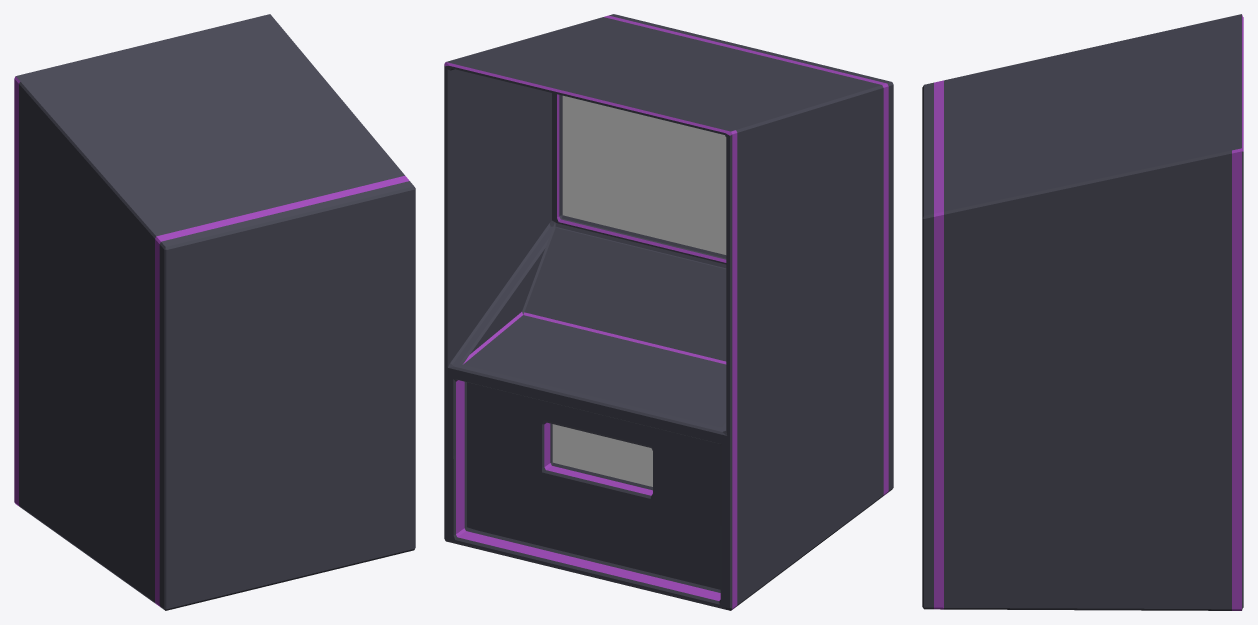
The model's file is gamebox.fbx.
3 views of the same model, side by side, from view 1: azimuth 30°, elevation 25°; view 2: azimuth 150°, elevation 25°; view 3: azimuth 270°, elevation 25° (orthographic). The views are drawn at different scales.
Visible parts, largest first — view 1: Cube; view 2: Cube; view 3: Cube.
Part boxes in pixels (x1=…): Cube: x1=14, y1=14, x2=415, y2=610; Cube: x1=444, y1=14, x2=893, y2=610; Cube: x1=922, y1=14, x2=1243, y2=610.
Size of the model in its own units: 416 by 662 by 416.
